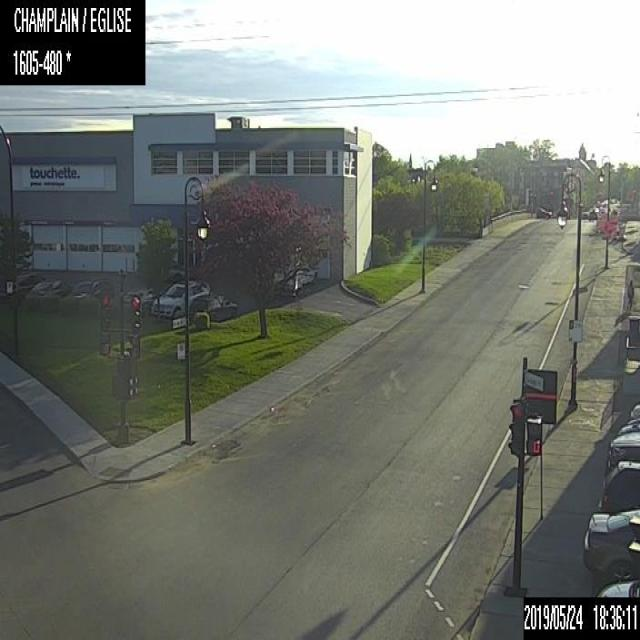construction: (602, 219, 614, 235), (613, 223, 616, 239), (615, 218, 618, 234), (595, 220, 598, 233), (598, 220, 601, 232)
pedestrian: (626, 278, 634, 307)
vehicle: (583, 507, 639, 582), (150, 279, 211, 318), (596, 460, 639, 514), (273, 264, 317, 298), (606, 430, 639, 473), (188, 293, 238, 321), (125, 280, 171, 305), (0, 272, 44, 296), (26, 278, 73, 298), (65, 279, 113, 298), (597, 578, 639, 596), (624, 314, 639, 361), (617, 421, 639, 433), (536, 204, 552, 218), (629, 402, 639, 419), (588, 209, 596, 220), (627, 417, 639, 422), (581, 211, 588, 219)
